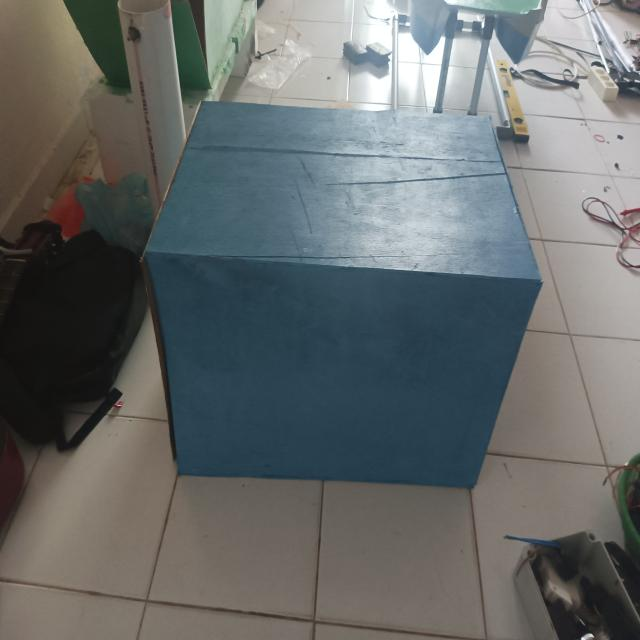blue_box: (146, 67, 545, 546)
